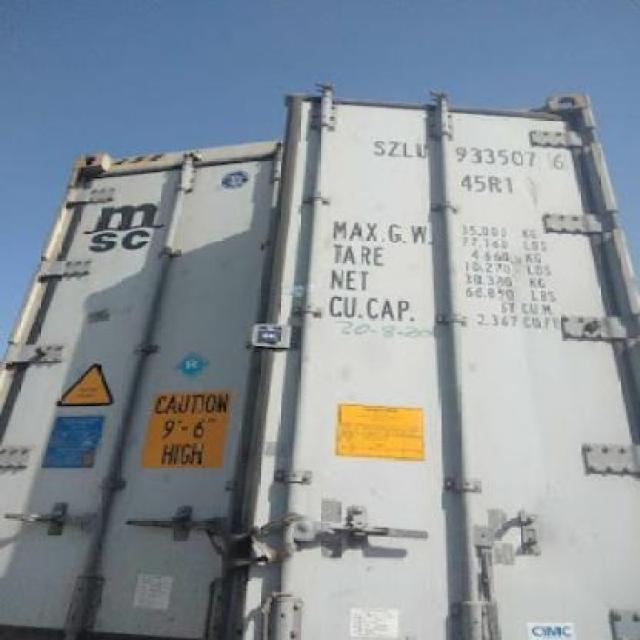ISO: (455, 172, 515, 196)
container_number: (373, 144, 576, 168)
